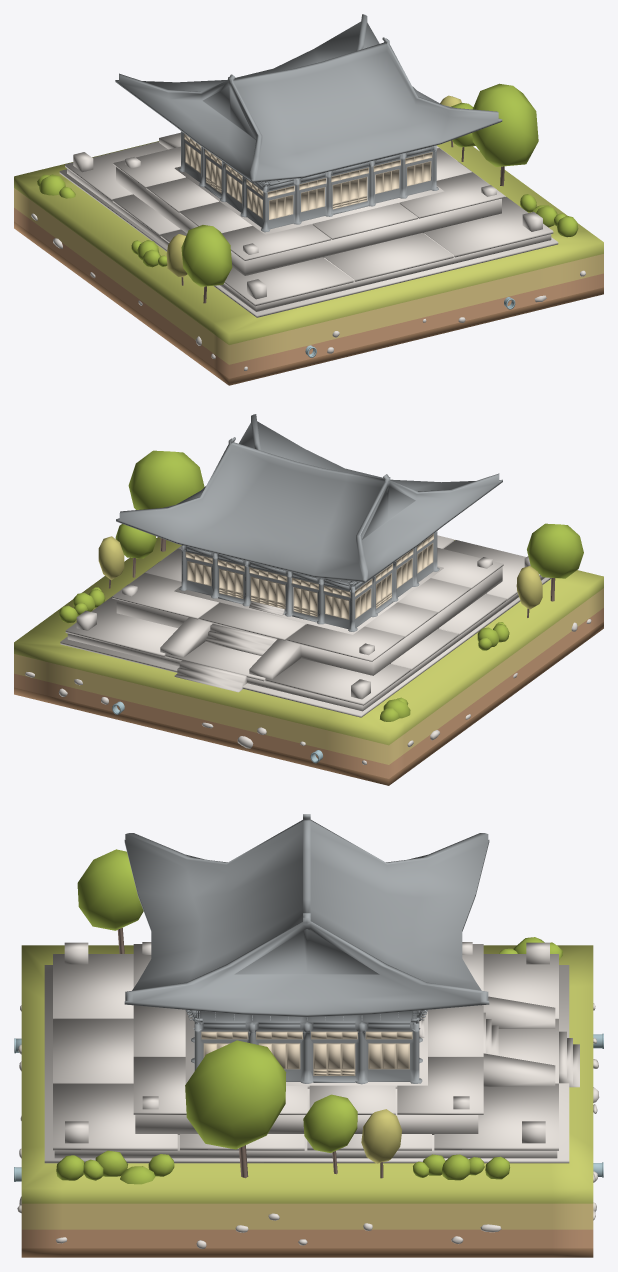
The model's file is 덕수궁.glb.
3 views of the same model, one above another, from view 1: azimuth 30°, elevation 25°; view 2: azimuth 150°, elevation 25°; view 3: azimuth 270°, elevation 25° (orthographic). The views are drawn at different scales.
Parts seen in each view (by area): view 1: 건2/덕수궁; view 2: 건2/덕수궁; view 3: 건2/덕수궁.
Part boxes in pixels (x1,y1,x2,y2): 건2/덕수궁: [14, 14, 603, 385]; 건2/덕수궁: [14, 414, 603, 785]; 건2/덕수궁: [14, 814, 603, 1257].
Bounding box in the file's own units: 3.32 × 1.64 × 3.23.
